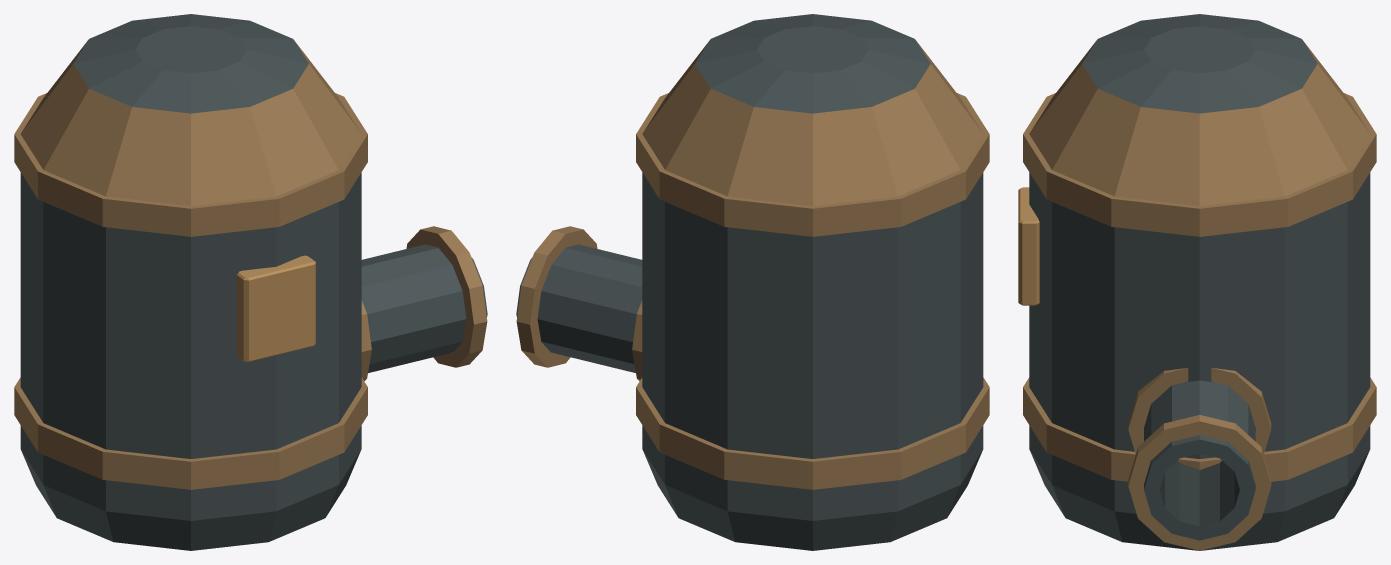
Rendered from boiler.glb.
3 views of the same model, side by side, from view 1: azimuth 30°, elevation 25°; view 2: azimuth 150°, elevation 25°; view 3: azimuth 270°, elevation 25° (orthographic).
Parts seen in each view (by area): view 1: boiler__body; view 2: boiler__body; view 3: boiler__body.
Boxes of the visible parts, x1,y1,x2,y2 form: boiler__body: [14, 14, 487, 550]; boiler__body: [516, 14, 989, 550]; boiler__body: [1018, 14, 1376, 550].
Bounding box in the file's own units: 1.57 × 1.55 × 1.15.
